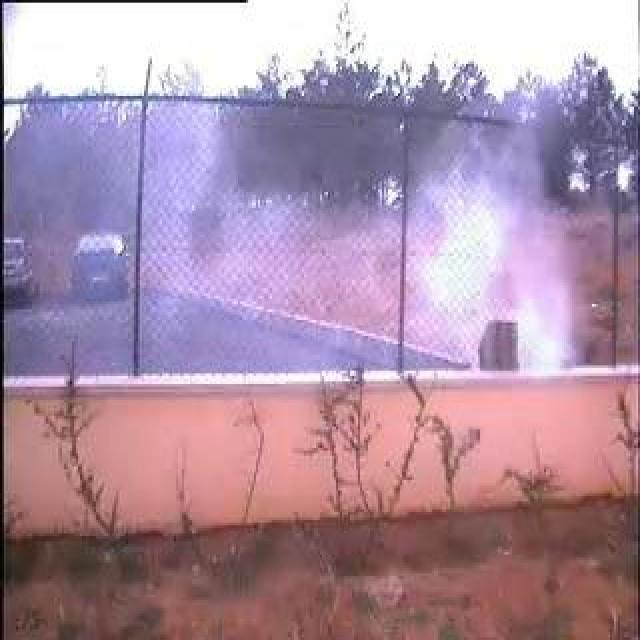Smoke: (146, 100, 574, 369)
